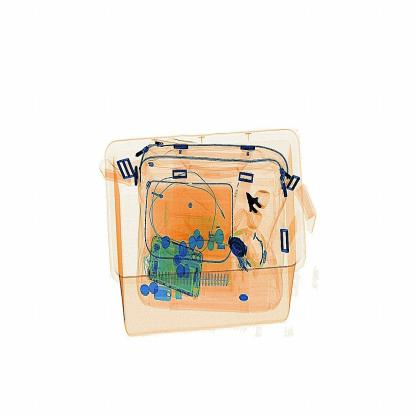gun: (245, 180, 272, 240)
